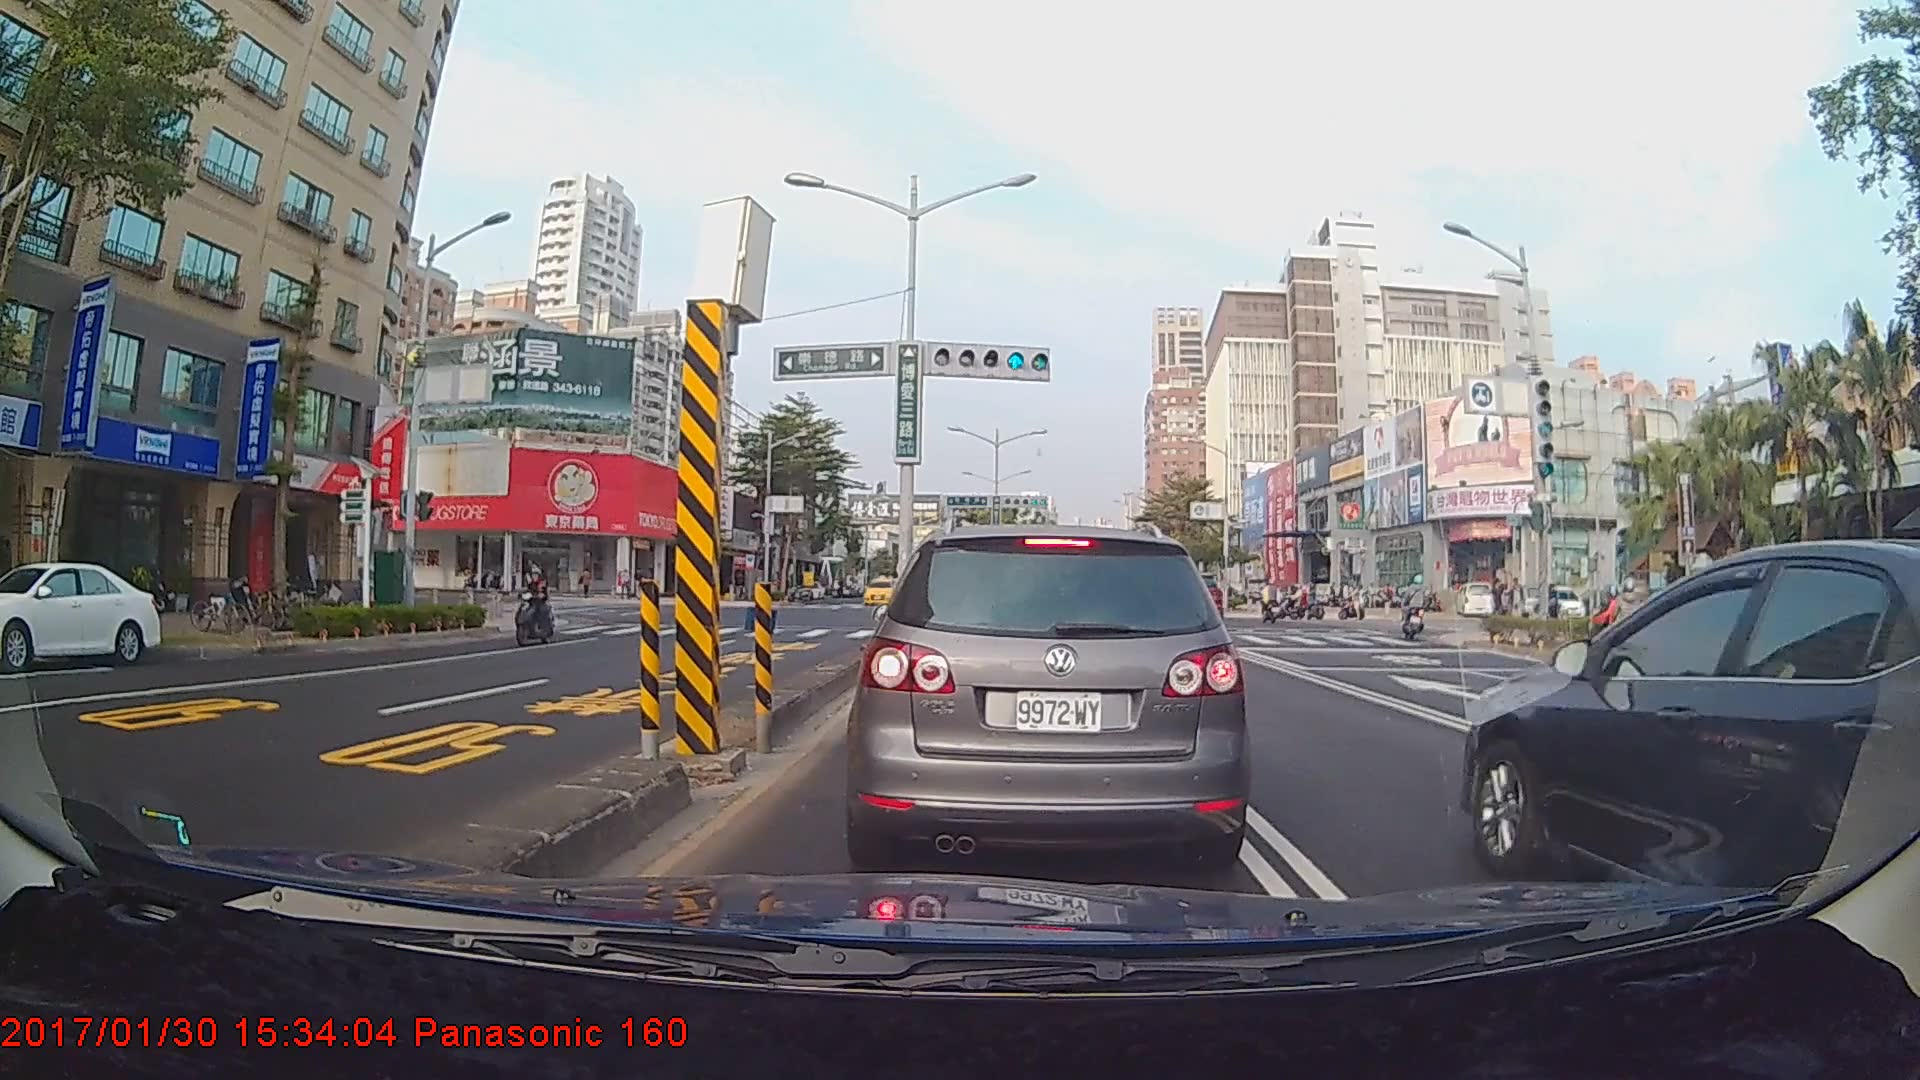rider: (512, 565, 563, 650), (1397, 572, 1438, 641), (1250, 574, 1280, 630)
vehicle: (1457, 530, 1920, 897), (857, 517, 1244, 871), (0, 561, 162, 671)
